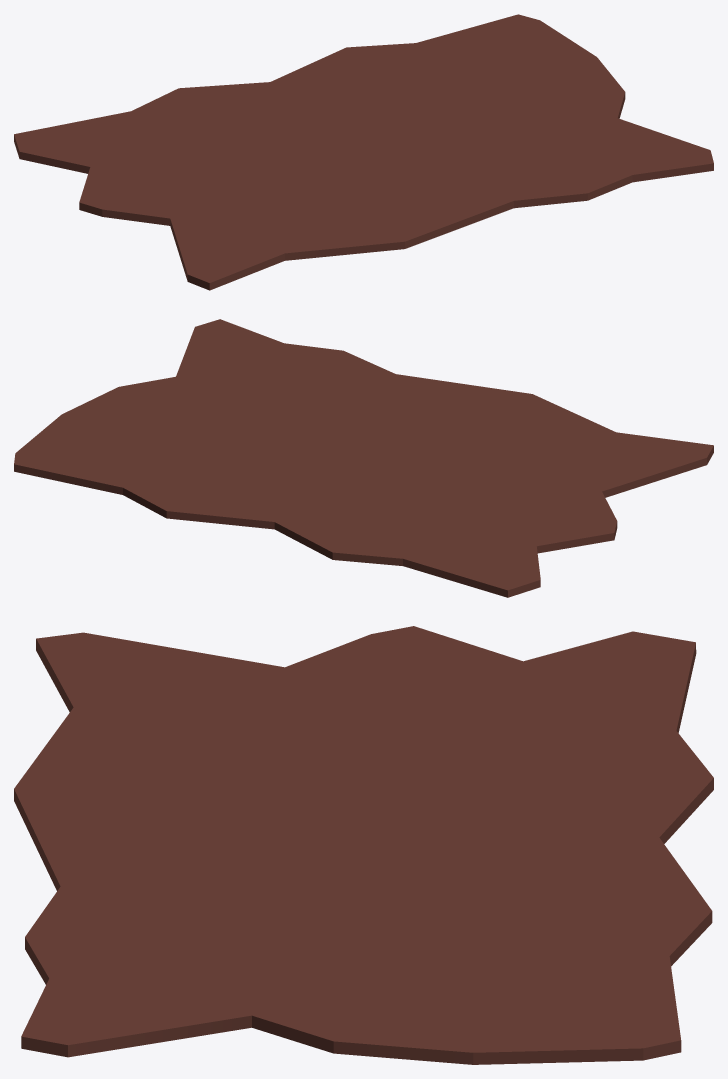
The model's file is leather_lining.fbx.
3 renders of one model, top to bottom at view 1: azimuth 30°, elevation 25°; view 2: azimuth 150°, elevation 25°; view 3: azimuth 270°, elevation 25°, orthographic. The views are drawn at different scales.
Visible parts, largest first — view 1: leather_lining; view 2: leather_lining; view 3: leather_lining.
Part boxes in pixels (x1=…): leather_lining: x1=14, y1=14, x2=713, y2=290; leather_lining: x1=14, y1=319, x2=713, y2=597; leather_lining: x1=14, y1=626, x2=713, y2=1064.
Bounding box in the file's own units: 78.05 × 1.26 × 53.82.
